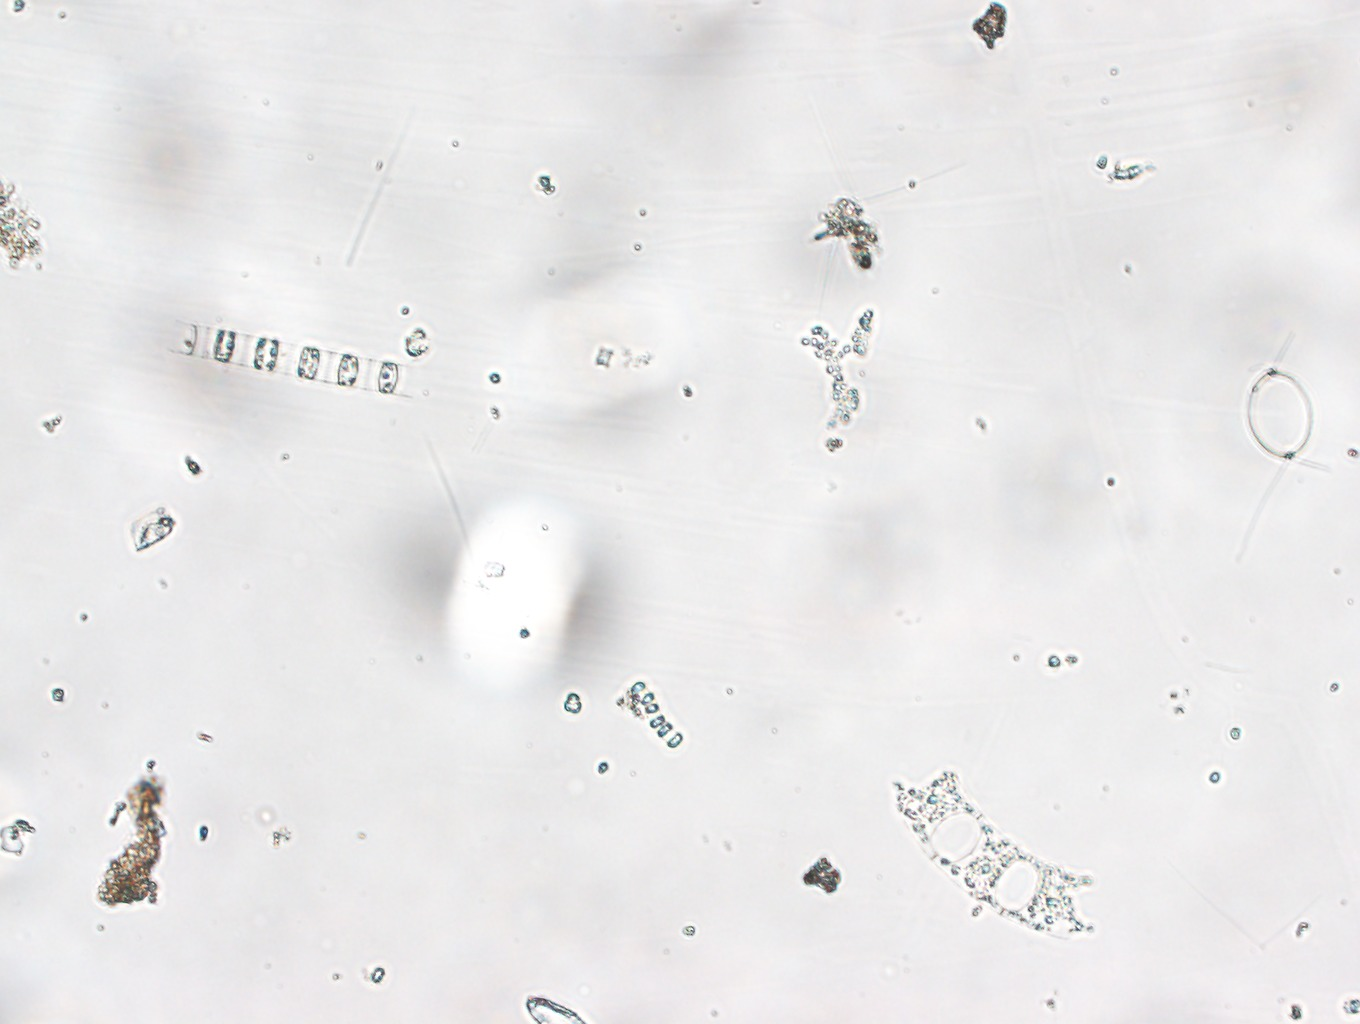eucampia: (881, 757, 1112, 959)
skeletonema: (130, 317, 479, 432)
